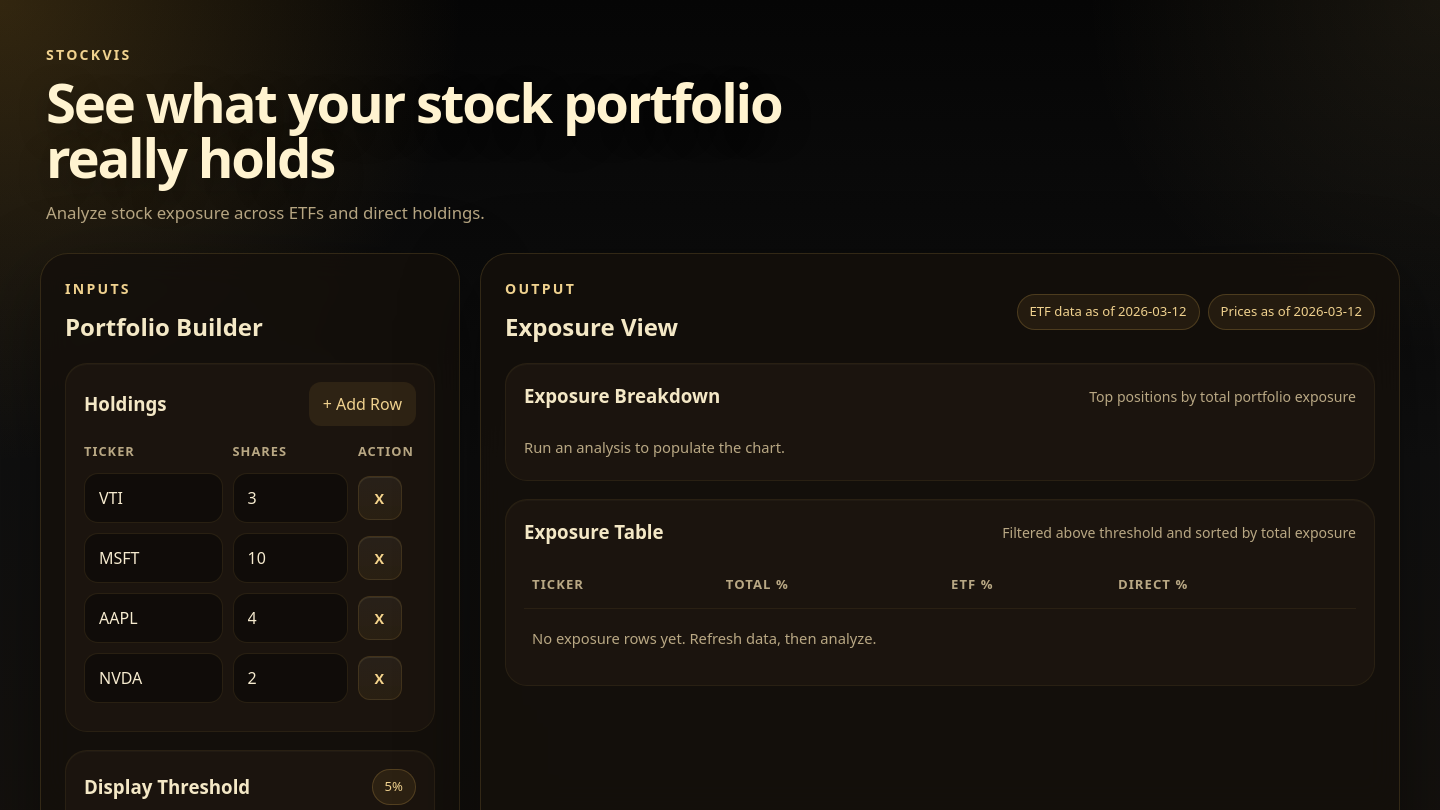
it: App › adds a new holding row when add row is clicked
Click the button with class "ghost-button" at [362, 404], box [309,382,416,426]
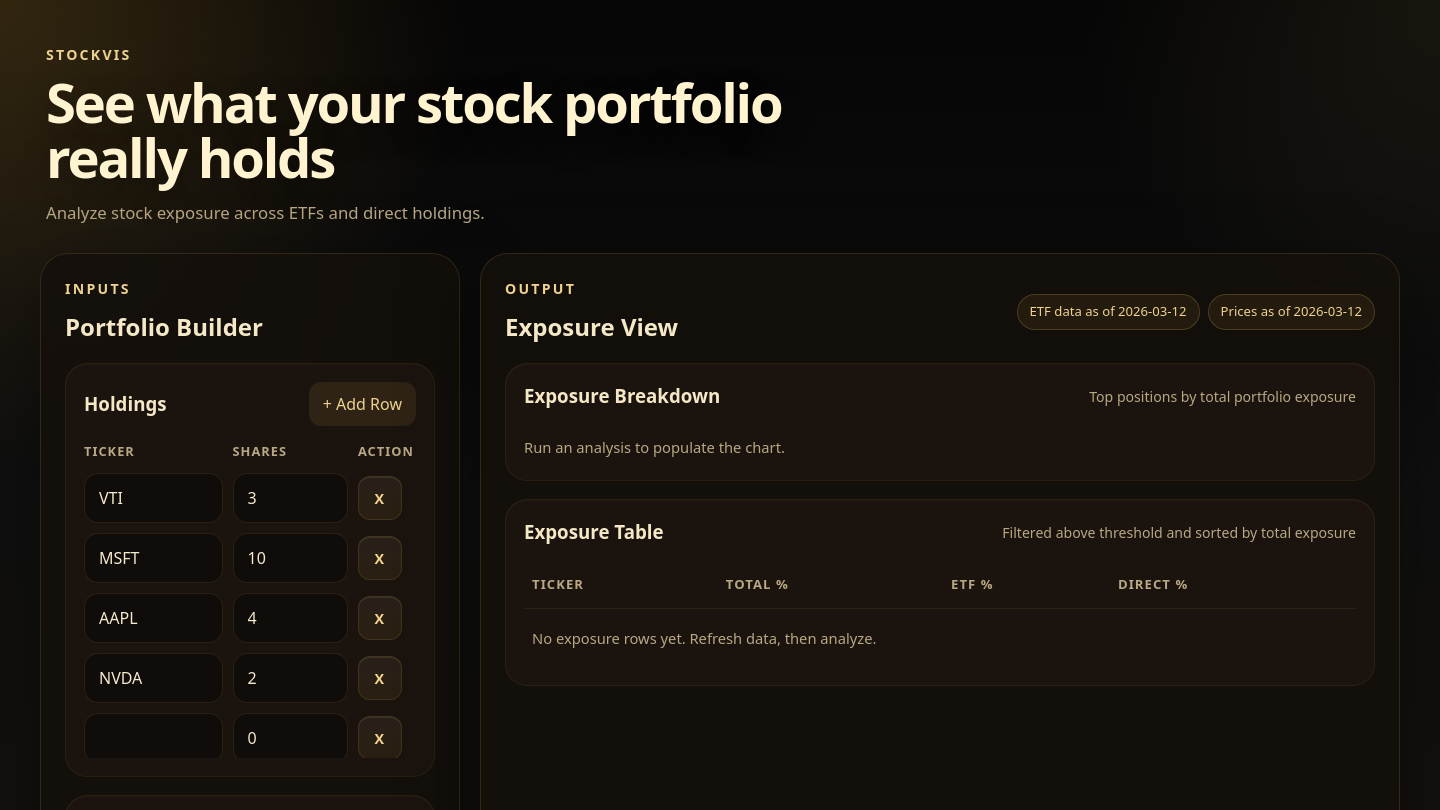
Expected: the number of fields is 5, [84,473,222,523]; [84,533,222,583]; [84,593,222,643]; [84,653,222,703]; [84,713,222,758]
Expected: the 5th field is empty, [84,713,222,758]
Expected: the 5th number field holds "0", [232,713,348,758]
